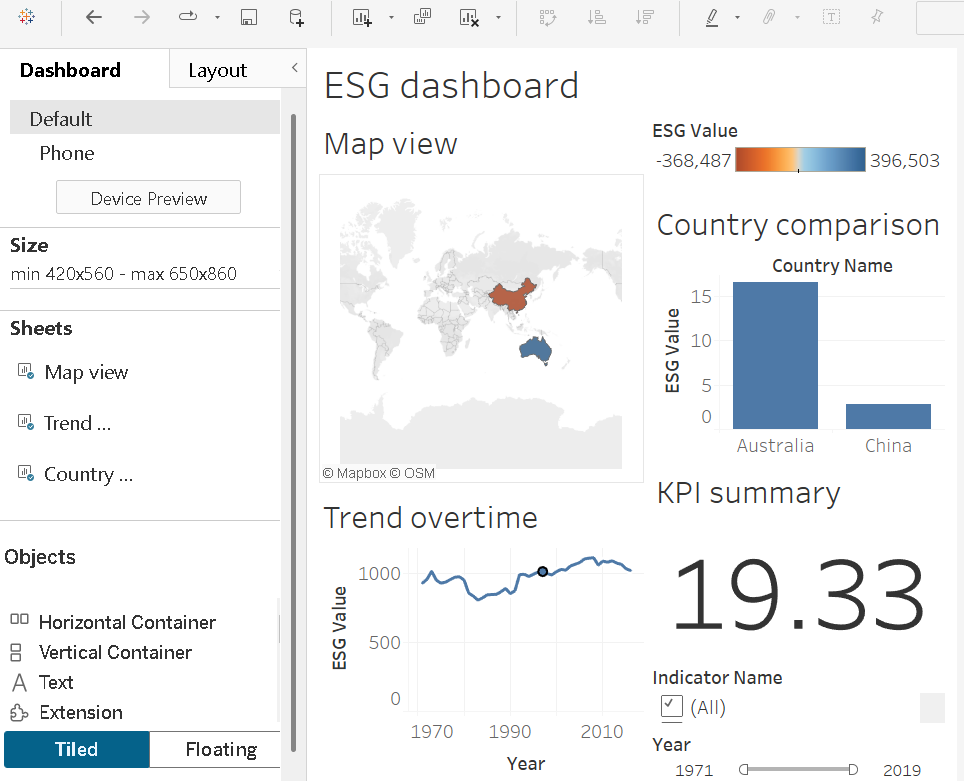

The page's visual inventory and layout, read from the dashboard file:
{"tool":"tableau","page":{"name":"ESG dashboard","canvas":[650,860],"ordinal":0},"visuals":[{"type":"title","box":[8,9.2,634,66.8]},{"type":"worksheet","title":"Map view","mark":"Automatic","box":[8,76,333,430.6]},{"type":"legend","title":"Map view","param":"[federated.19vmihf0bd9vho1flag0n19olu12].[sum:ESG Value:qk]","box":[341,76,301,93.2]},{"type":"worksheet","title":"Country comparison","mark":"Automatic","rows":["ESG Value"],"cols":["Country Name"],"box":[341,169.2,301,308.6]},{"type":"worksheet","title":"KPI summary","mark":"Automatic","box":[341,477.8,301,228]},{"type":"worksheet","title":"Trend overtime","mark":"Automatic","rows":["ESG Value"],"cols":["Year"],"box":[8,506.5,333,344.2]},{"type":"filter","title":"Map view","param":"[federated.19vmihf0bd9vho1flag0n19olu12].[none:Indicator Name:nk]","box":[341,705.7,301,77.1]},{"type":"filter","title":"Map view","param":"[federated.19vmihf0bd9vho1flag0n19olu12].[none:Year:qk]","box":[341,782.9,301,67.9]}]}

Visuals, with their boxes on the page's 650x860 design canvas (x1, y1, x2, y2). These are canvas units, not pixel positions in the 964x781 screenshot, which may show the page scaled, cropped or inside an application window:
title: select_region(8, 9, 642, 76)
"Map view" worksheet: select_region(8, 76, 341, 507)
"Map view" legend: select_region(341, 76, 642, 169)
"Country comparison" worksheet: select_region(341, 169, 642, 478)
"KPI summary" worksheet: select_region(341, 478, 642, 706)
"Trend overtime" worksheet: select_region(8, 506, 341, 851)
"Map view" filter: select_region(341, 706, 642, 783)
"Map view" filter: select_region(341, 783, 642, 851)
